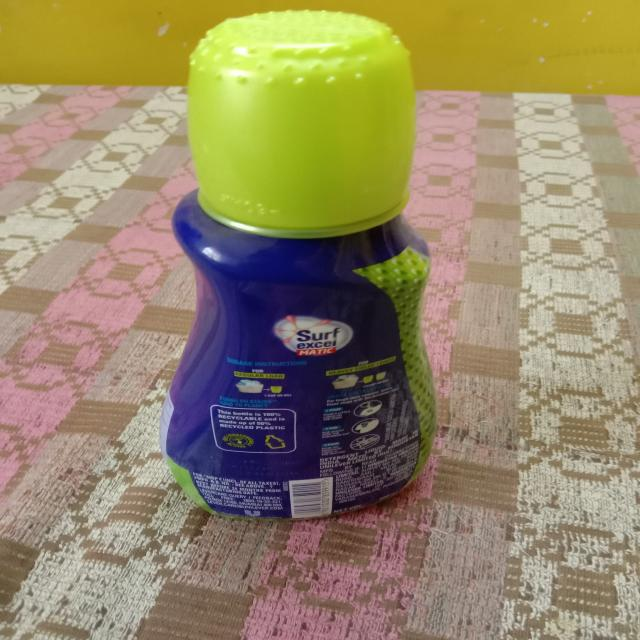detergent: (142, 6, 456, 519)
